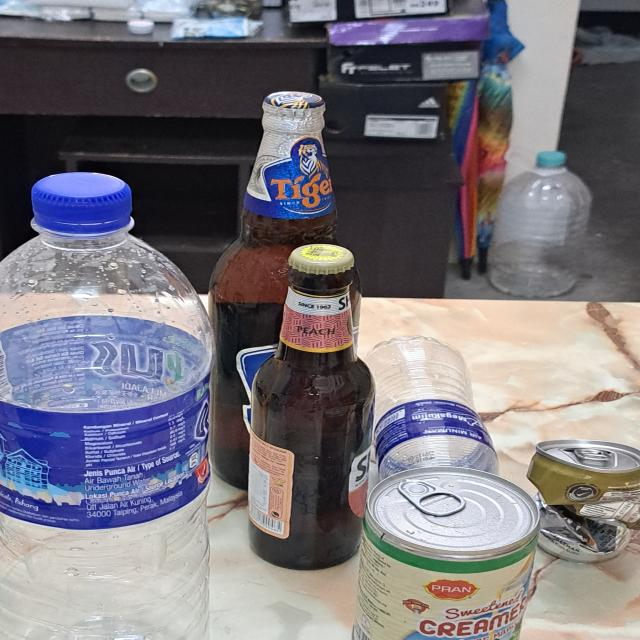can: (355, 465, 539, 640), (530, 439, 640, 564)
glass bottle: (217, 88, 340, 492), (252, 241, 372, 574)
plastic bottle: (0, 171, 211, 638), (370, 333, 497, 477)
plastic bottle cap: (28, 173, 141, 240)
pop tab: (401, 478, 465, 522), (575, 445, 619, 466)
